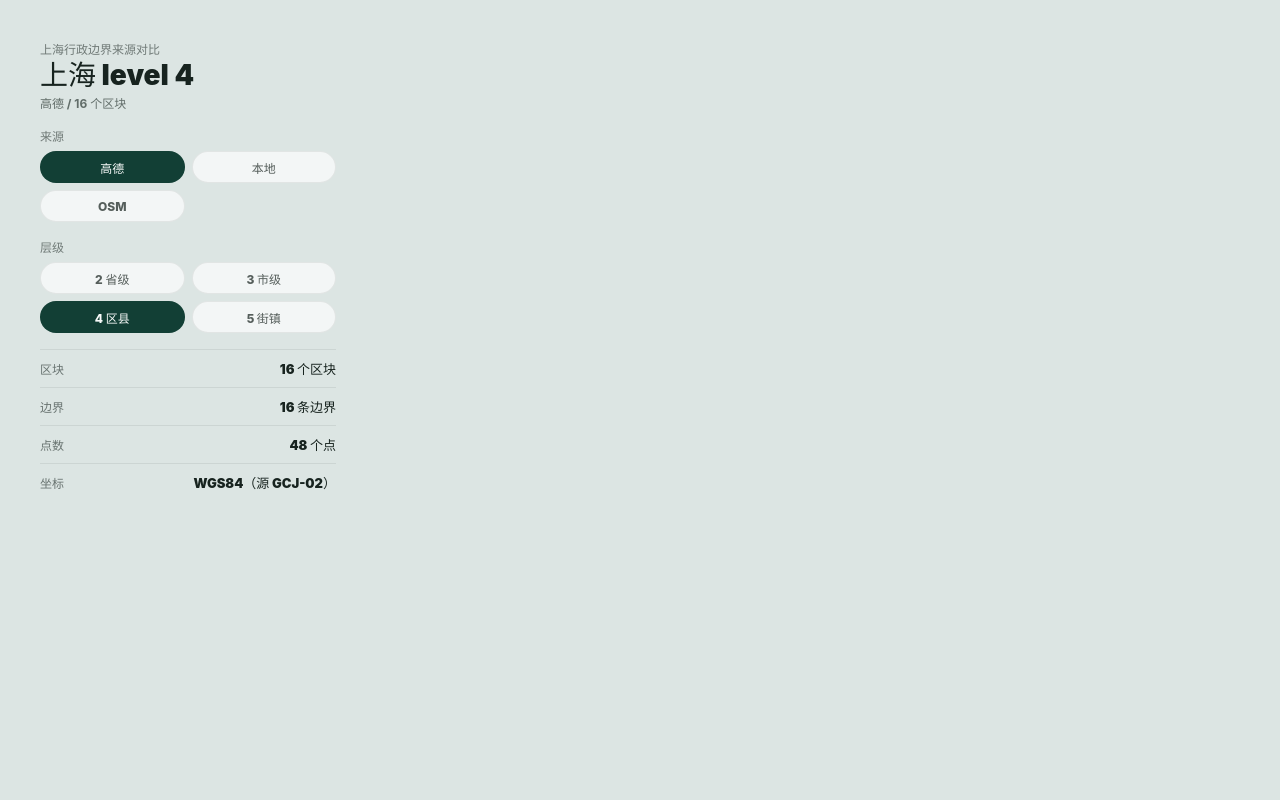
Test: MapboxAmapBoundaryPreview › clears stale overlay and reports unavailable AMap level 5
Expected: the text "16 个区块" is shown, [280,359,336,378]
Click the button "5 街镇". click: (264, 317)
box: [192,301,336,333]
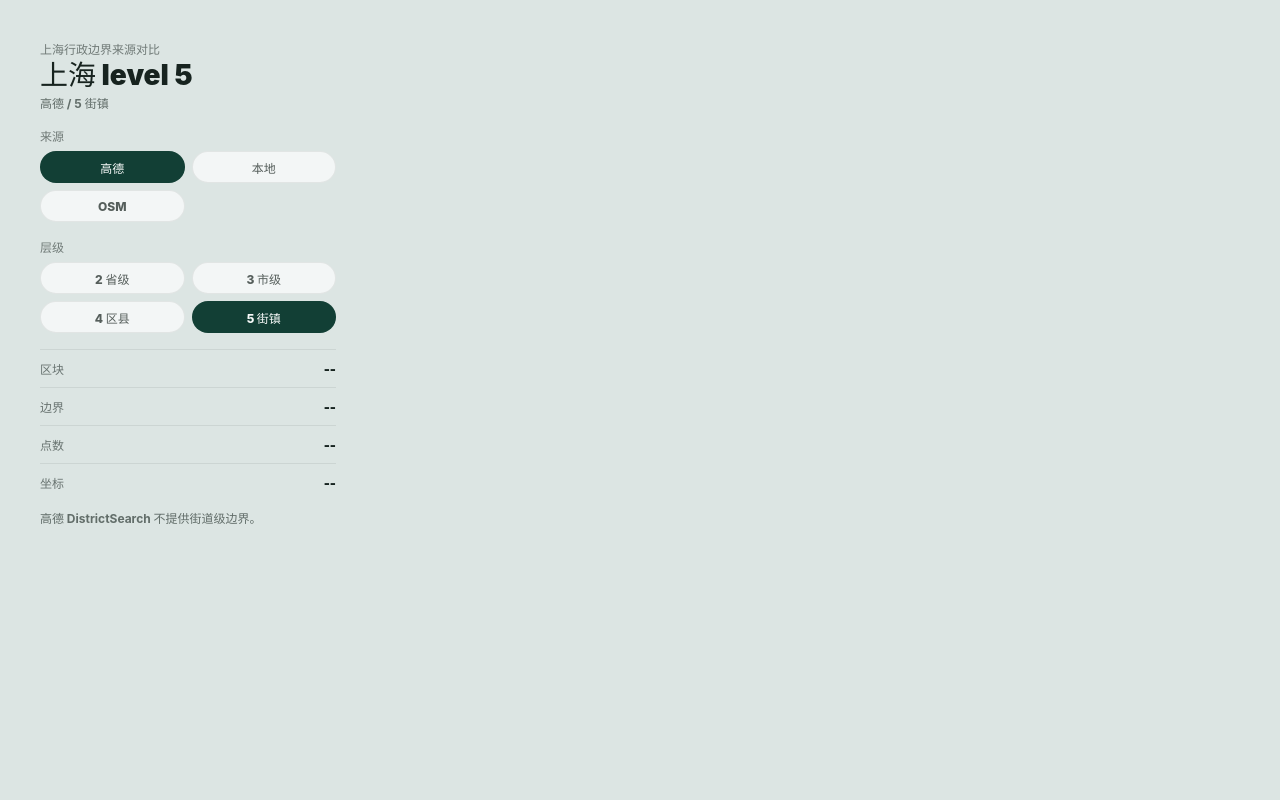
Now the message shows "高德 DistrictSearch 不提供街道级边界", box [40,511,262,526]
Now the text "16 个区块" is gone
